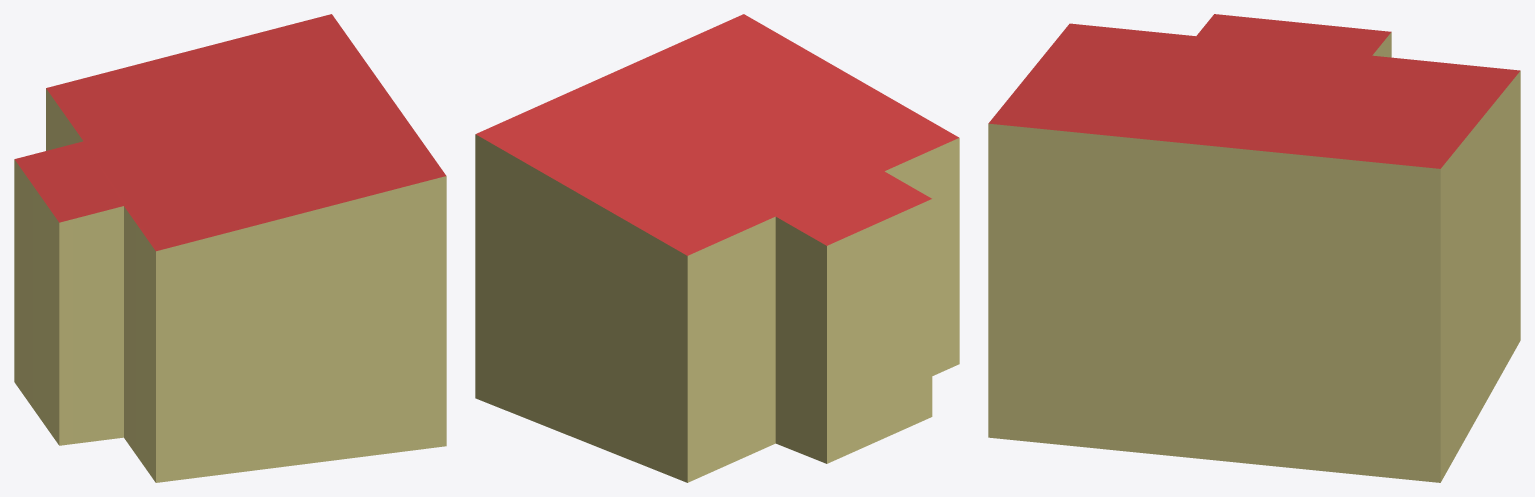
3 renders of one model, left to right at view 1: azimuth 30°, elevation 25°; view 2: azimuth 150°, elevation 25°; view 3: azimuth 270°, elevation 25°, orthographic. The views are drawn at different scales.
Parts seen in each view (by area): view 1: group_4, group_3; view 2: group_4, group_3; view 3: group_4, group_3.
Boxes of the visible parts, x1,y1,x2,y2 form: group_4: (14, 88, 446, 482); group_3: (14, 14, 446, 251); group_4: (475, 134, 959, 482); group_3: (476, 14, 958, 255); group_4: (988, 32, 1520, 482); group_3: (988, 14, 1520, 168).
Size of the model in its own units: 8.45 by 9.07 by 5.9.
